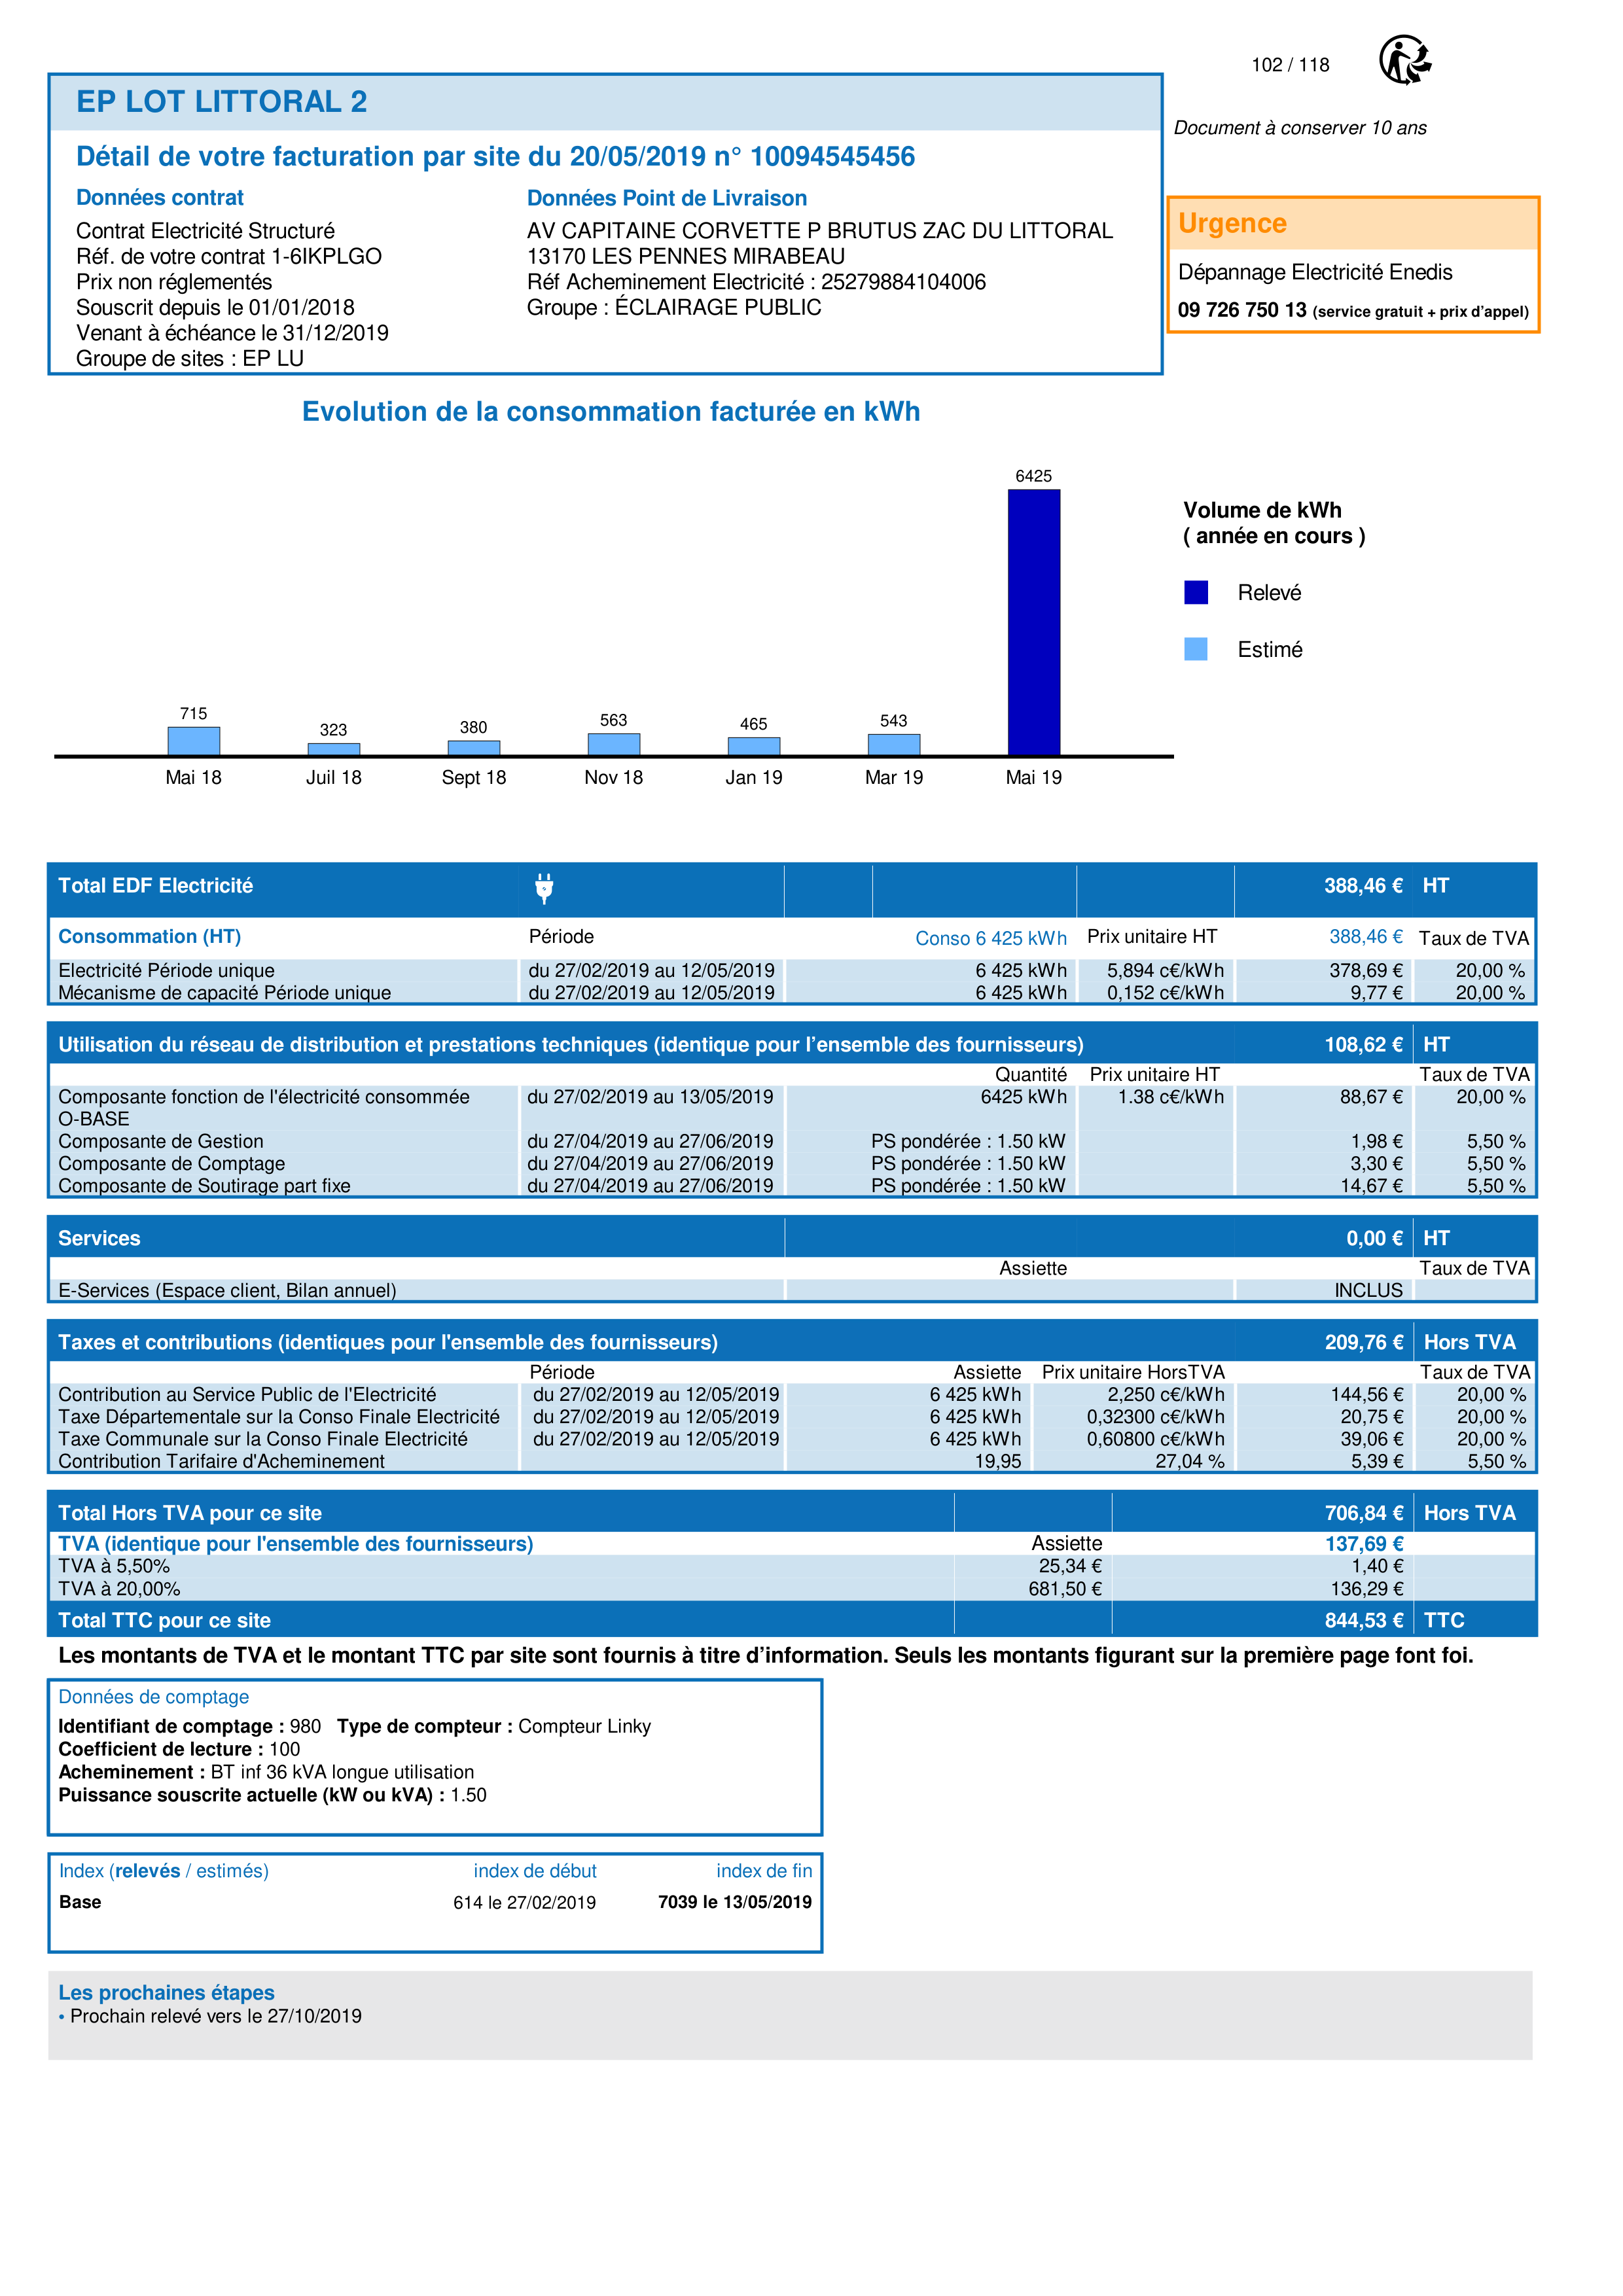area: (46, 1852, 823, 1953)
type_indicator: (47, 1855, 282, 1888)
